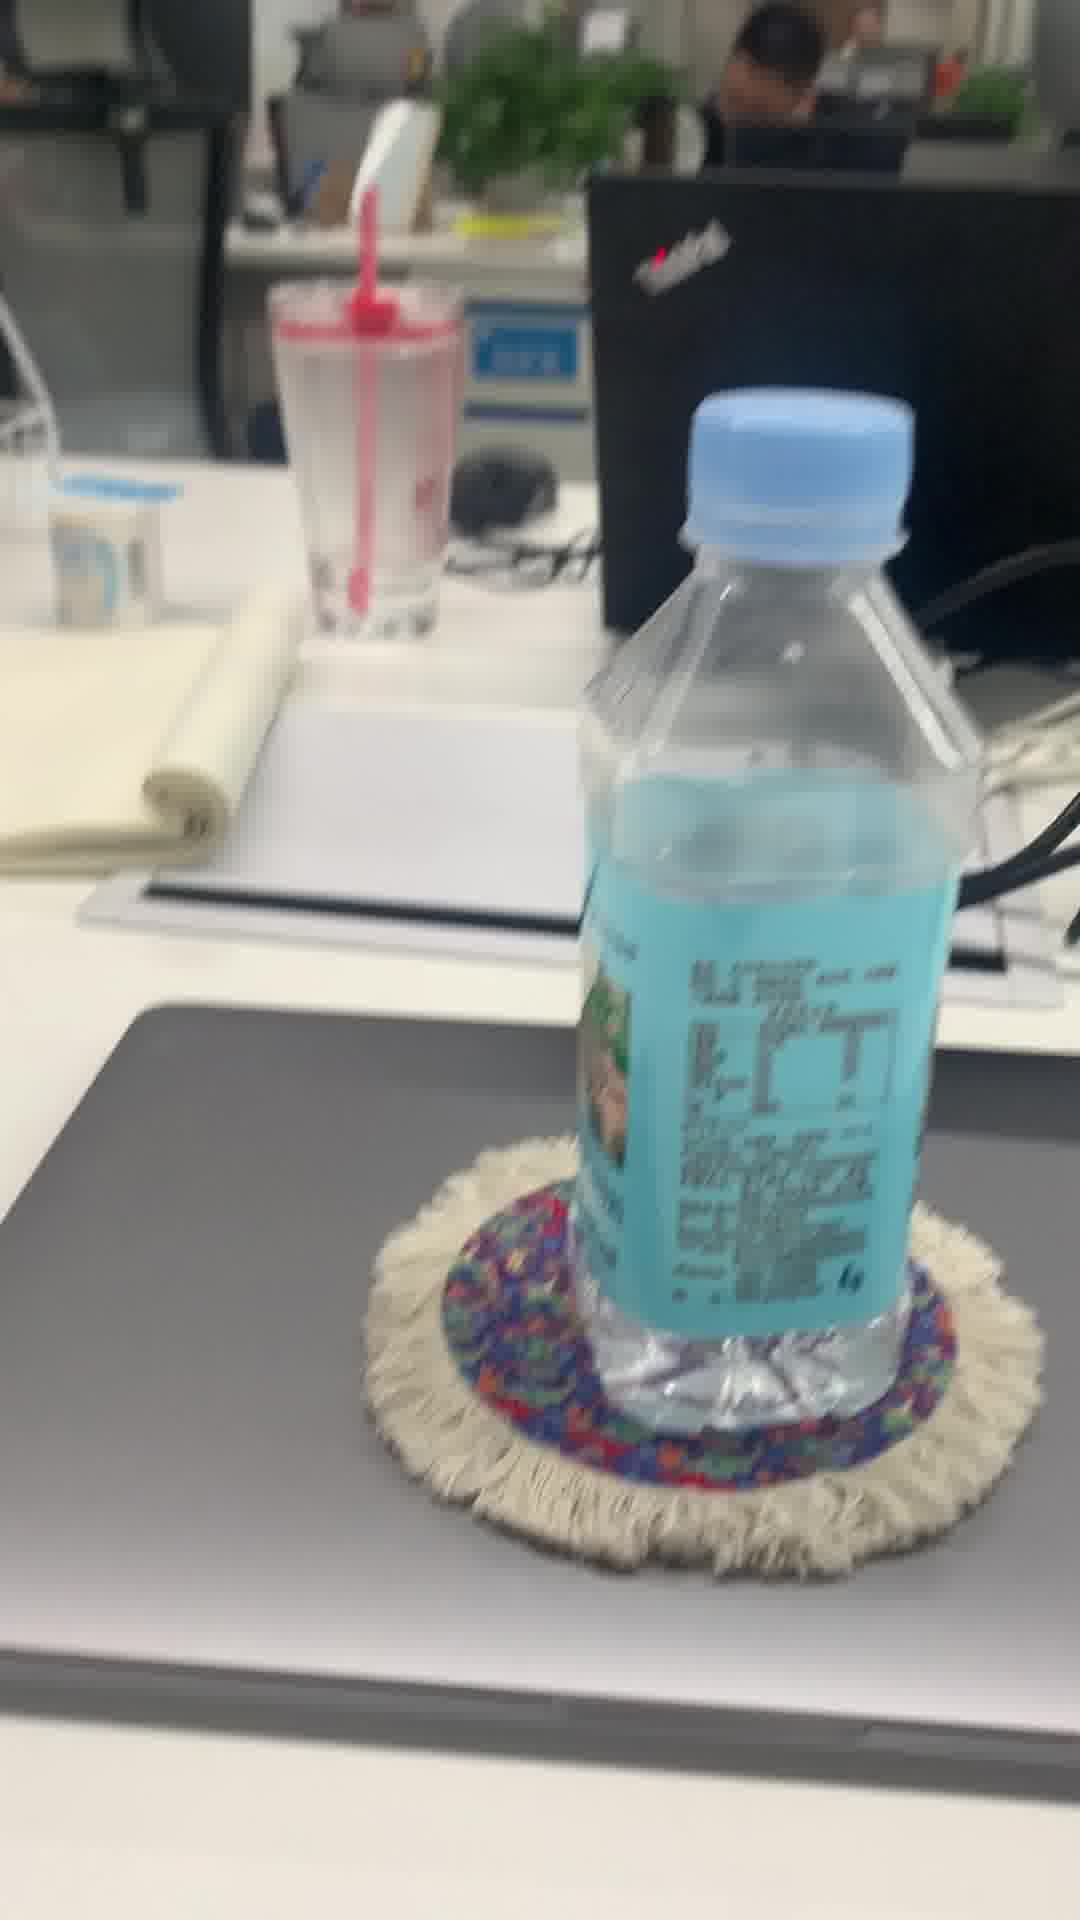水瓶: (568, 382, 973, 1462)
